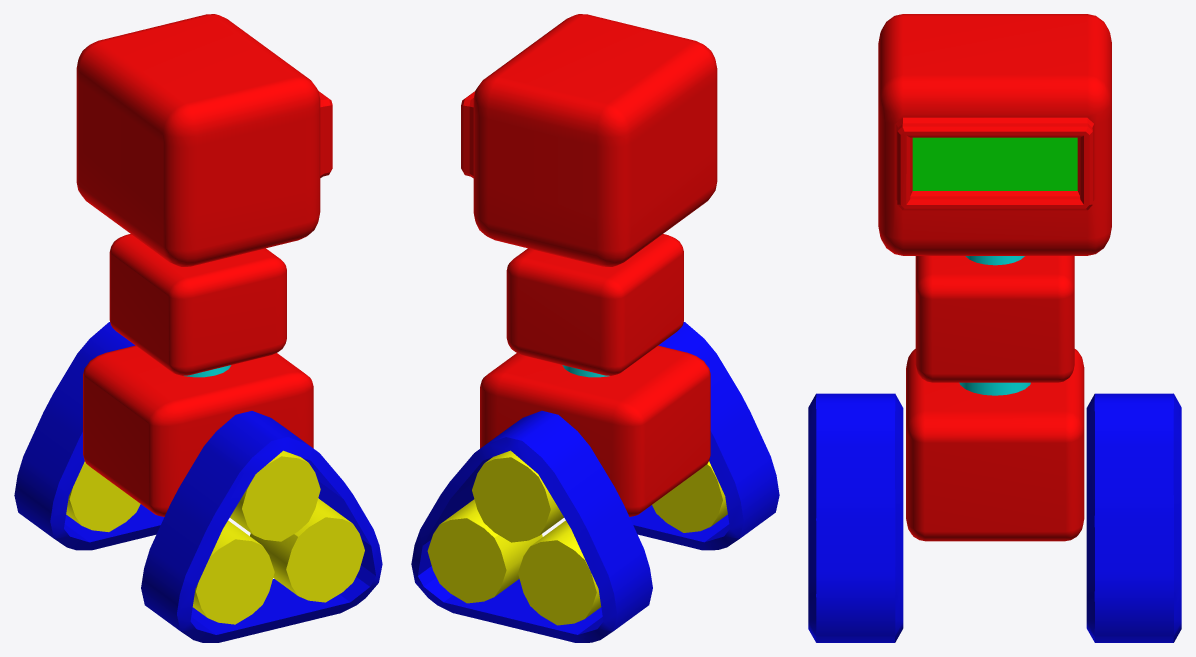
The model's file is robot_body_full.fbx.
3 views of the same model, side by side, from view 1: azimuth 30°, elevation 25°; view 2: azimuth 150°, elevation 25°; view 3: azimuth 270°, elevation 25° (orthographic). The views are drawn at different scales.
Visible parts, largest first — view 1: robot_head2; view 2: robot_head2; view 3: robot_head2.
Boxes of the visible parts, box(x1,y1,x2,y2) form: robot_head2: box(14, 14, 382, 642); robot_head2: box(411, 14, 779, 642); robot_head2: box(808, 14, 1181, 642).
Bounding box in the file's own units: 0.0126 × 0.0297 × 0.0179.
